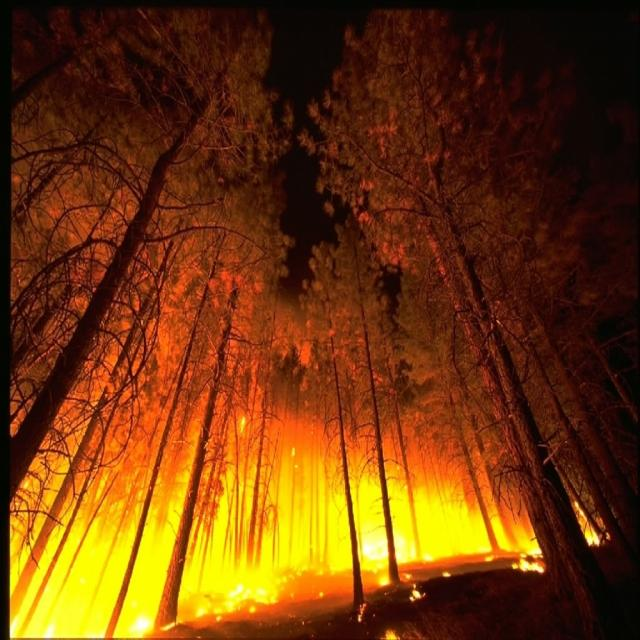Fire: (12, 414, 541, 639)
